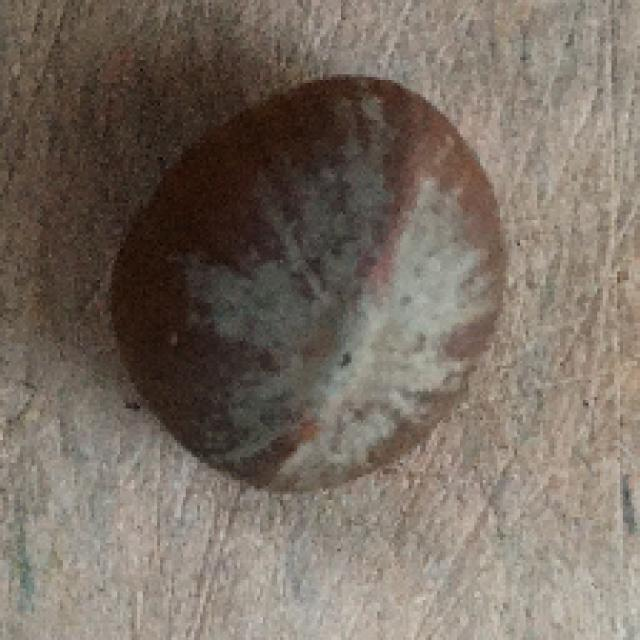qualityHazelnut: (99, 73, 507, 501)
